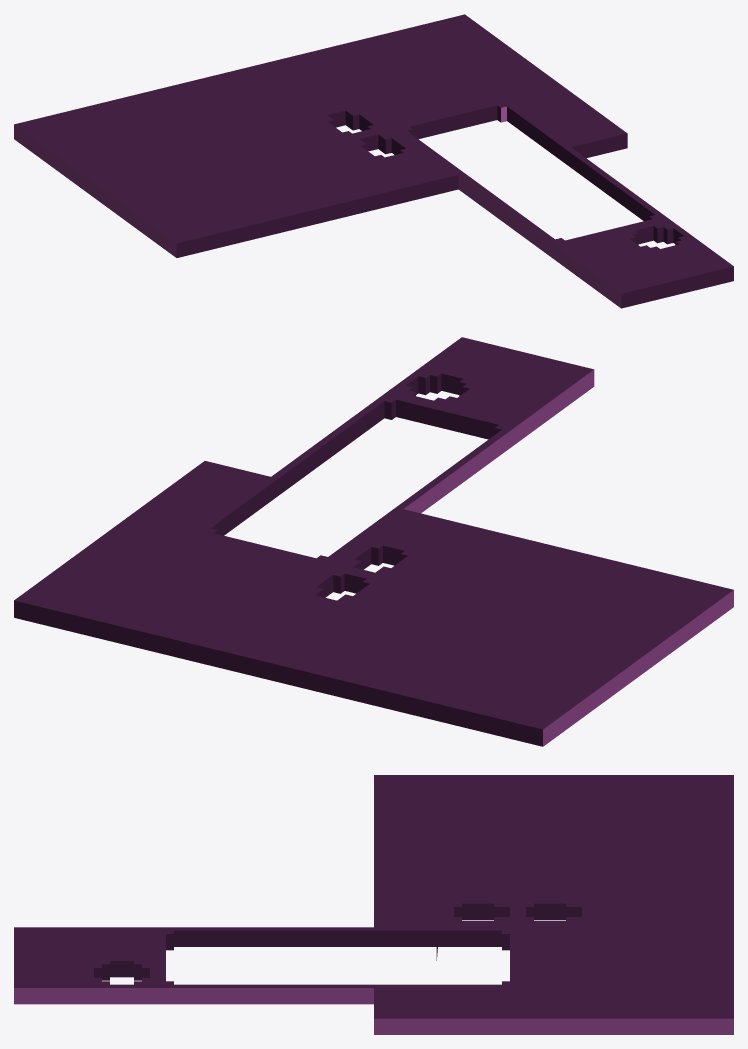
File: cuboRosa_4.FBX
3 renders of one model, top to bottom at view 1: azimuth 30°, elevation 25°; view 2: azimuth 150°, elevation 25°; view 3: azimuth 270°, elevation 25°, orthographic. The views are drawn at different scales.
Visible parts, largest first — view 1: Box001; view 2: Box001; view 3: Box001.
Part boxes in pixels (x1,y1,x2,y2): Box001: (14, 14, 733, 308); Box001: (14, 337, 733, 746); Box001: (14, 775, 733, 1034).
Size of the model in its own units: 8 by 0.4993 by 10.
